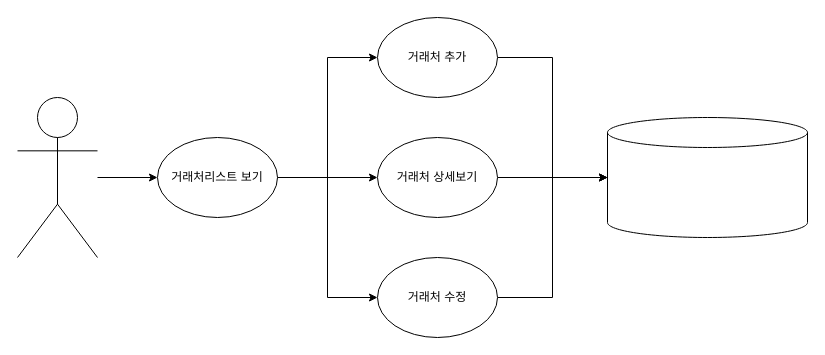
The diagram is 825 pixels wide and 355 high, and some of its shapes have lost their labels. The centre of each missing label's shape, as x and y in pixels:
"거래처정보 Table" belongs at [707,177].
"관리자" belongs at [57,177].
